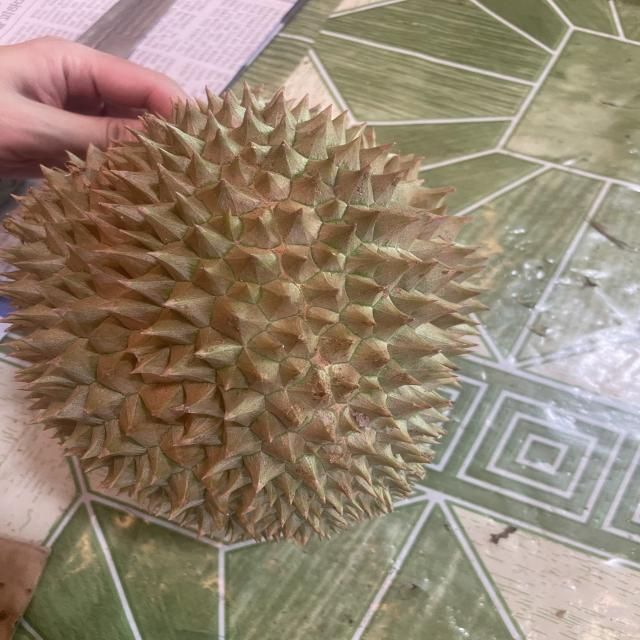mature: (0, 88, 515, 545)
